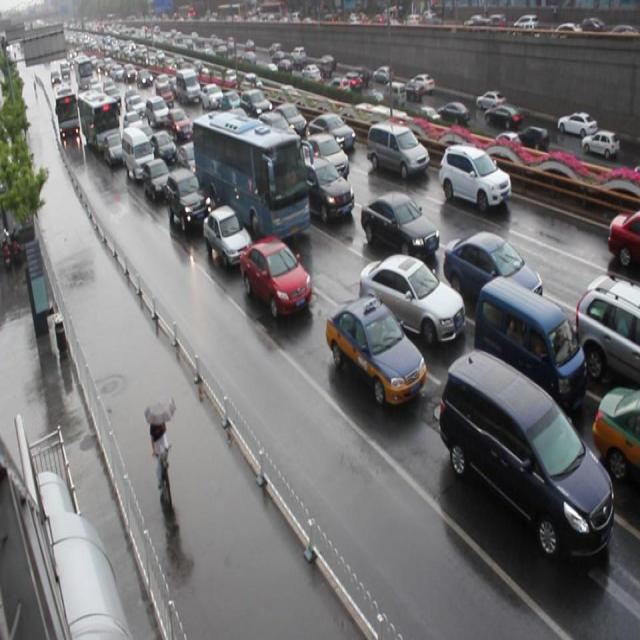car: (324, 296, 425, 404), (357, 253, 464, 347), (442, 230, 542, 310), (573, 274, 640, 384), (239, 236, 312, 317), (360, 190, 440, 256), (438, 144, 510, 214), (590, 386, 640, 486), (301, 154, 353, 223), (203, 206, 252, 267), (165, 168, 208, 230), (299, 134, 345, 182), (306, 114, 351, 158), (606, 208, 640, 266), (266, 104, 302, 144), (143, 158, 171, 202), (174, 143, 206, 181), (150, 130, 176, 166)
truck: (437, 348, 611, 556), (472, 275, 585, 406), (365, 122, 428, 180)
van: (190, 112, 308, 244)
